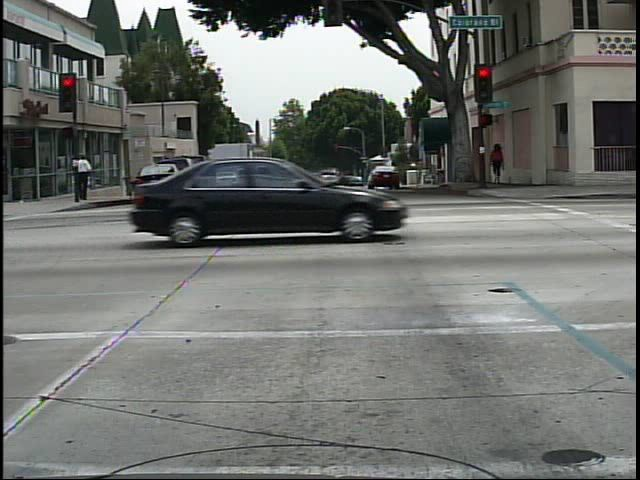person: (68, 147, 96, 209), (488, 137, 511, 189)
